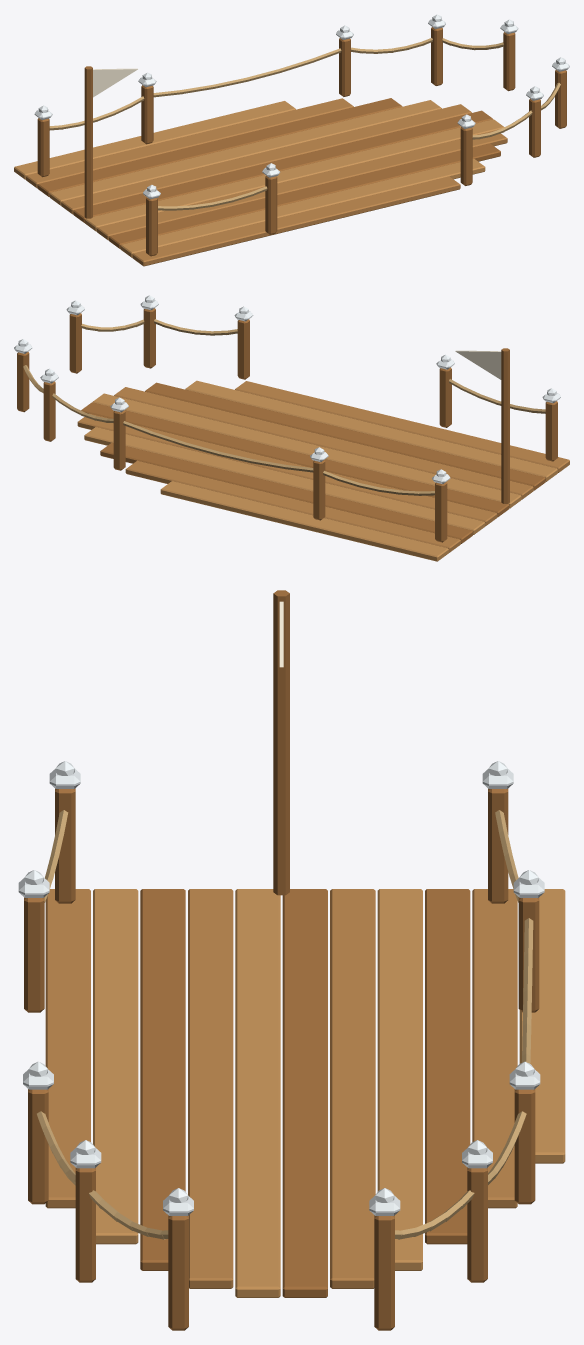
File: mod_houseboat_deck.glb
3 renders of one model, top to bottom at view 1: azimuth 30°, elevation 25°; view 2: azimuth 150°, elevation 25°; view 3: azimuth 270°, elevation 25°, orthographic. The views are drawn at different scales.
Visible parts, largest first — view 1: mod_houseboat_deck, part_flag; view 2: mod_houseboat_deck, part_flag; view 3: mod_houseboat_deck.
Boxes of the visible parts, x1,y1,x2,y2 form: mod_houseboat_deck: [14, 14, 569, 266]; part_flag: [93, 68, 137, 97]; mod_houseboat_deck: [14, 295, 569, 561]; part_flag: [455, 350, 501, 379]; mod_houseboat_deck: [18, 590, 565, 1330].
Bounding box in the file's own units: 5.13 × 1.66 × 2.65.
